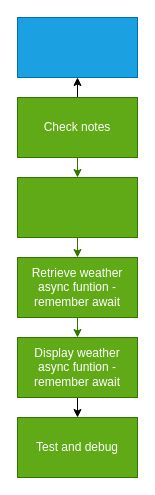
Some shapes in this 155 by 495 pixel diagram are drawn without their labels. Here are the shapes that lost their labels. From the top down, the box of each, then its label:
(16, 16, 138, 78): SPRINT 3
(16, 176, 138, 238): Get & display weather async funtion - remember await
